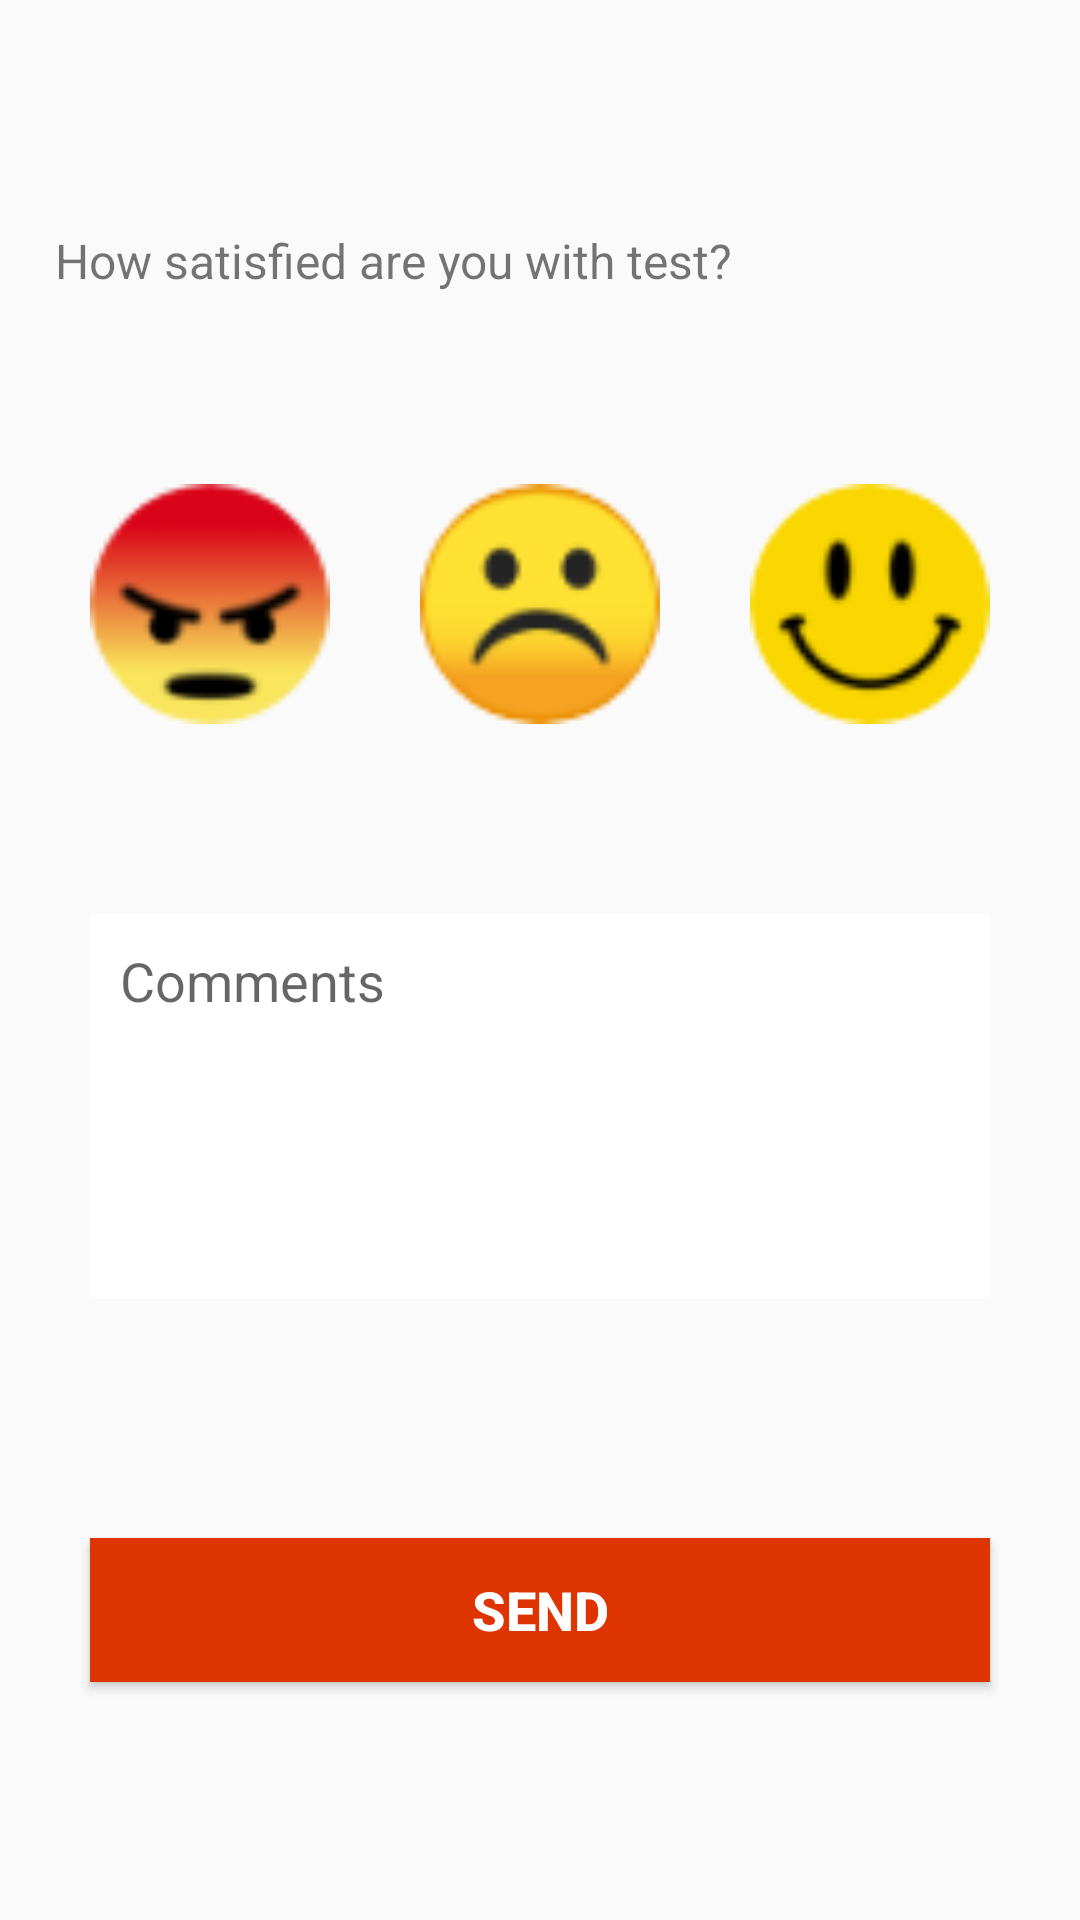

Point at icon controls on the screen. Image size 1080px x 1920px, points as (x,y).
angry: (210,604)
good: (870,604)
